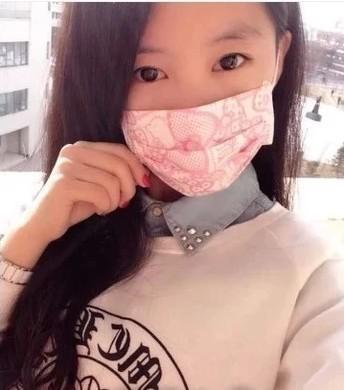WRONG: (113, 21, 280, 188)
